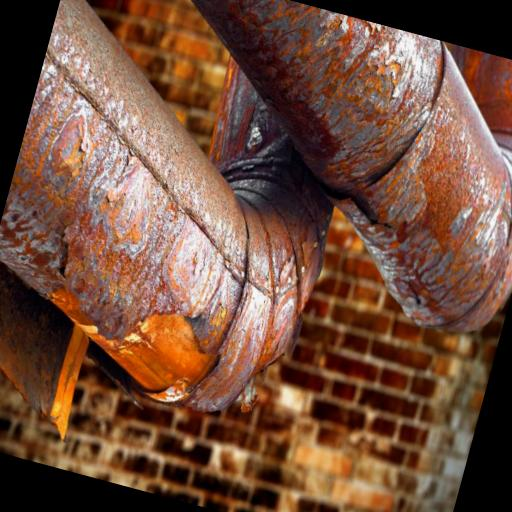corrosion: (0, 54, 347, 448), (192, 0, 512, 331)
